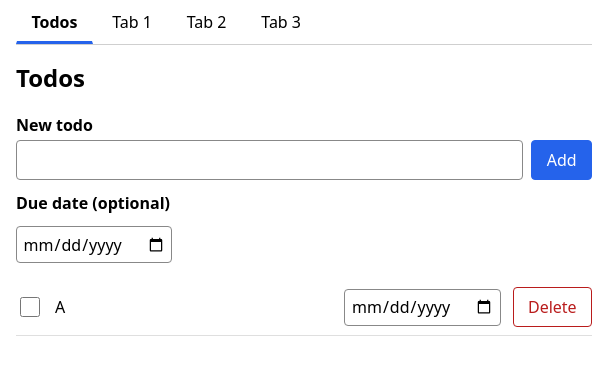
it: UI14 #status › UI14 a non-Error failure shows 'Something went wrong.'
The width and height of the screenshot is (609, 391).
Click the checkbox with id "todo-1". click: (30,307)
box: [20,297,40,317]
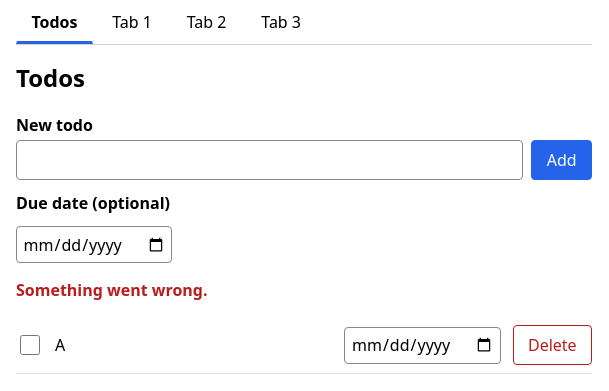
Check: the message with id "status" reads "Something went wrong.", box [16,279,208,301]
